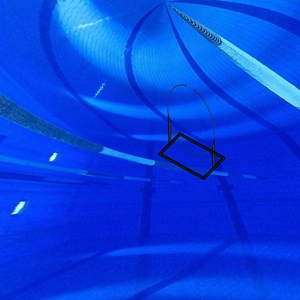circle: (157, 83, 227, 183)
